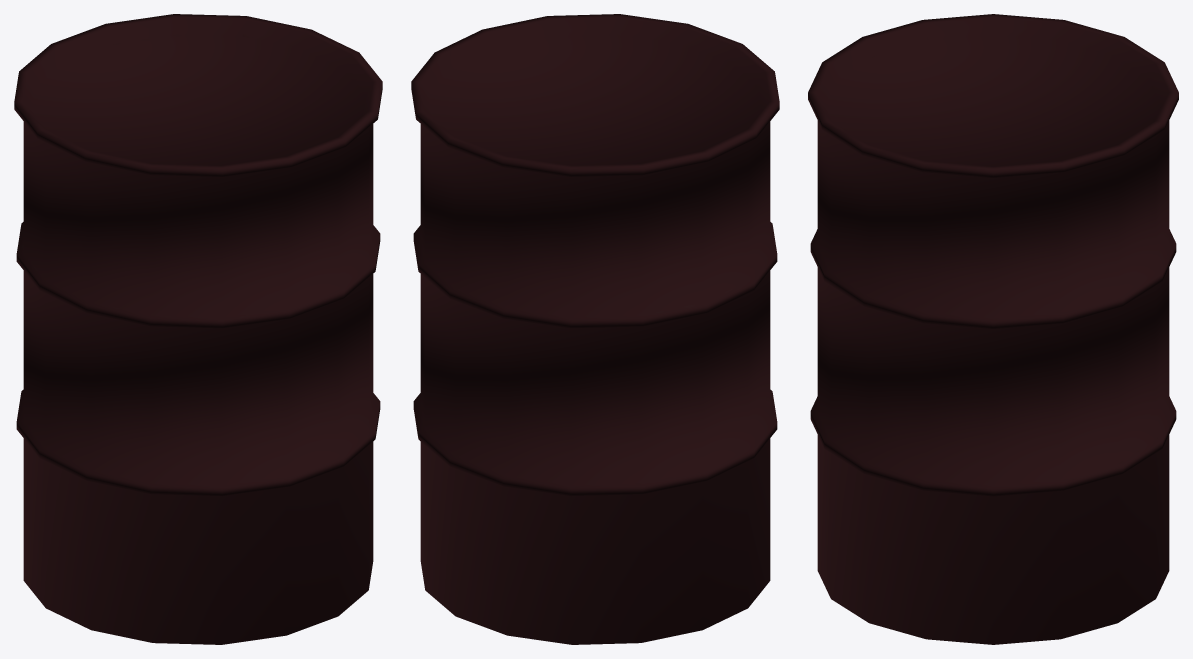
File: barrel.fbx
3 renders of one model, left to right at view 1: azimuth 30°, elevation 25°; view 2: azimuth 150°, elevation 25°; view 3: azimuth 270°, elevation 25°, orthographic.
Visible parts, largest first — view 1: barrel; view 2: barrel; view 3: barrel.
Part boxes in pixels (bbox=[...]): barrel: bbox=[14, 14, 382, 644]; barrel: bbox=[411, 14, 779, 644]; barrel: bbox=[808, 14, 1178, 644].
Bounding box in the file's own units: 211 × 300 × 211.
